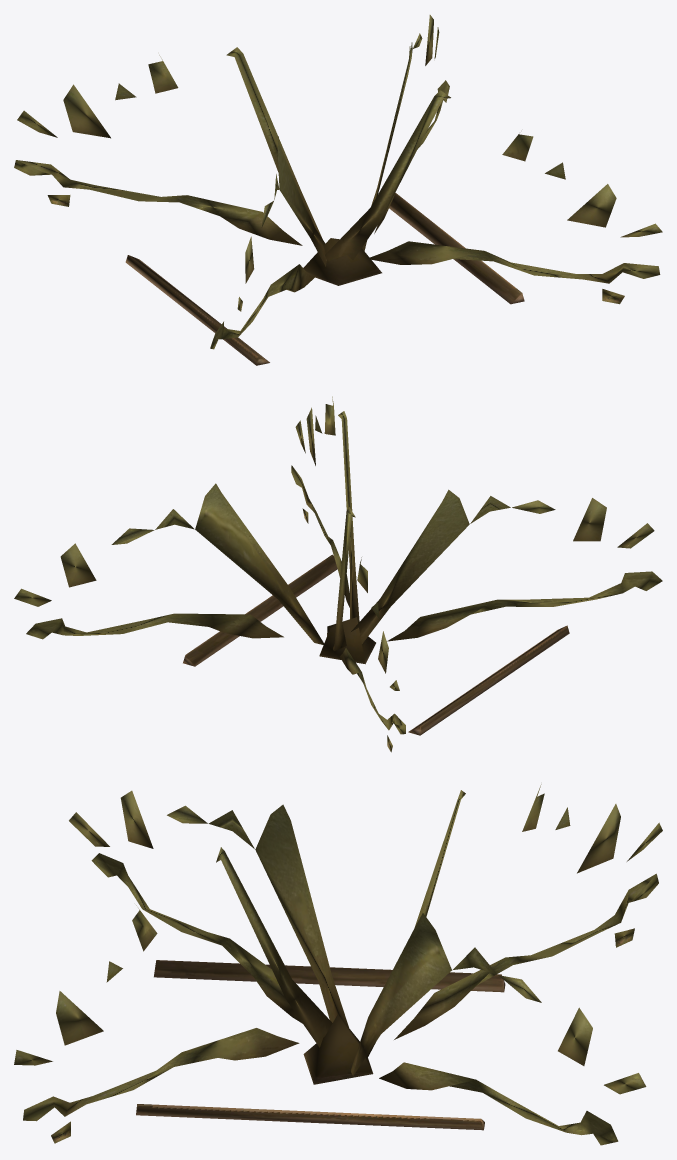
Rendered from plants_01.glb.
The picture shows the model from 3 angles, top to bottom: view 1: azimuth 30°, elevation 25°; view 2: azimuth 150°, elevation 25°; view 3: azimuth 270°, elevation 25°; orthographic projection. The views are drawn at different scales.
Visible parts, largest first — view 1: tripo_node_0f16ec8a-4ed0-4509-b381-2faf77700b9c; view 2: tripo_node_0f16ec8a-4ed0-4509-b381-2faf77700b9c; view 3: tripo_node_0f16ec8a-4ed0-4509-b381-2faf77700b9c.
Boxes of the visible parts, x1=… form: tripo_node_0f16ec8a-4ed0-4509-b381-2faf77700b9c: x1=14, y1=15, x2=662, y2=365; tripo_node_0f16ec8a-4ed0-4509-b381-2faf77700b9c: x1=14, y1=396, x2=662, y2=752; tripo_node_0f16ec8a-4ed0-4509-b381-2faf77700b9c: x1=14, y1=784, x2=662, y2=1145.
Size of the model in its own units: 1.83 by 0.8 by 1.85.
1 material, 1 textured.
